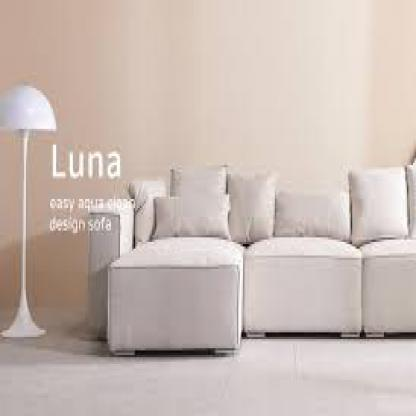sofa: (84, 160, 414, 355)
